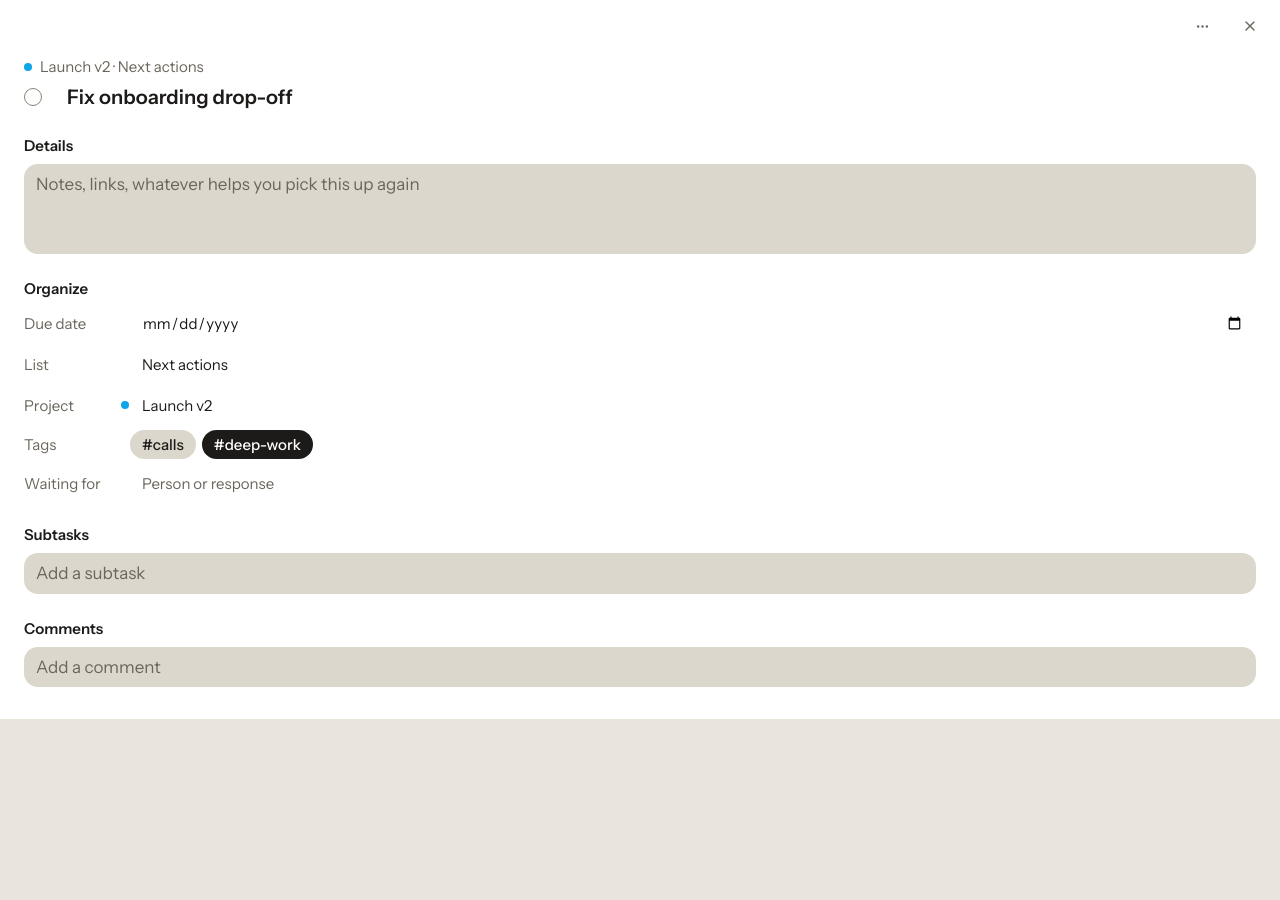
TaskDetailPanel chrome › closes an open menu when the panel switches to another task
Click the button named "Task menu": (1202, 26) top-left (1180, 4), bottom-right (1224, 48)
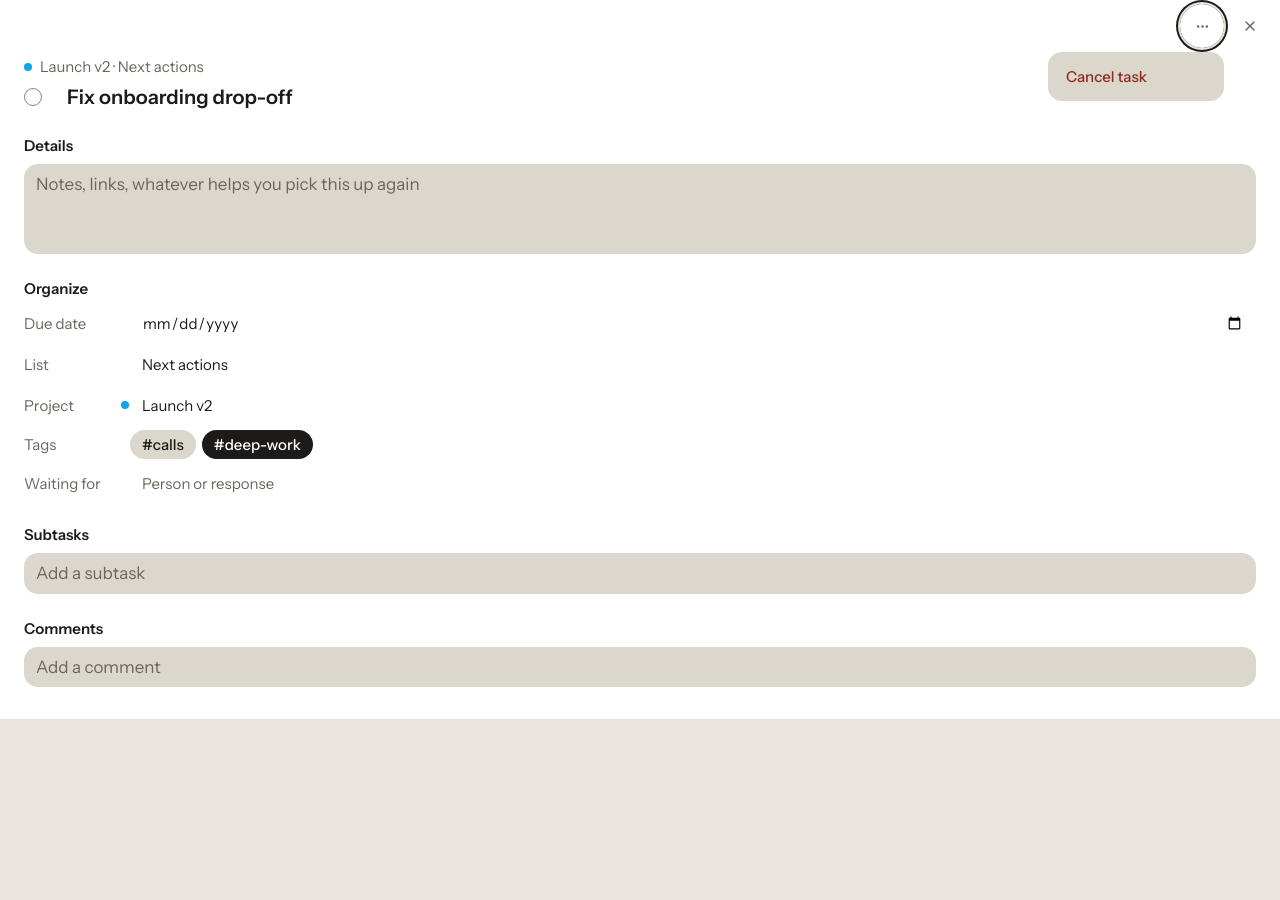
expect the button "Cancel task" is shown: met, box top-left (1054, 58), bottom-right (1218, 95)
